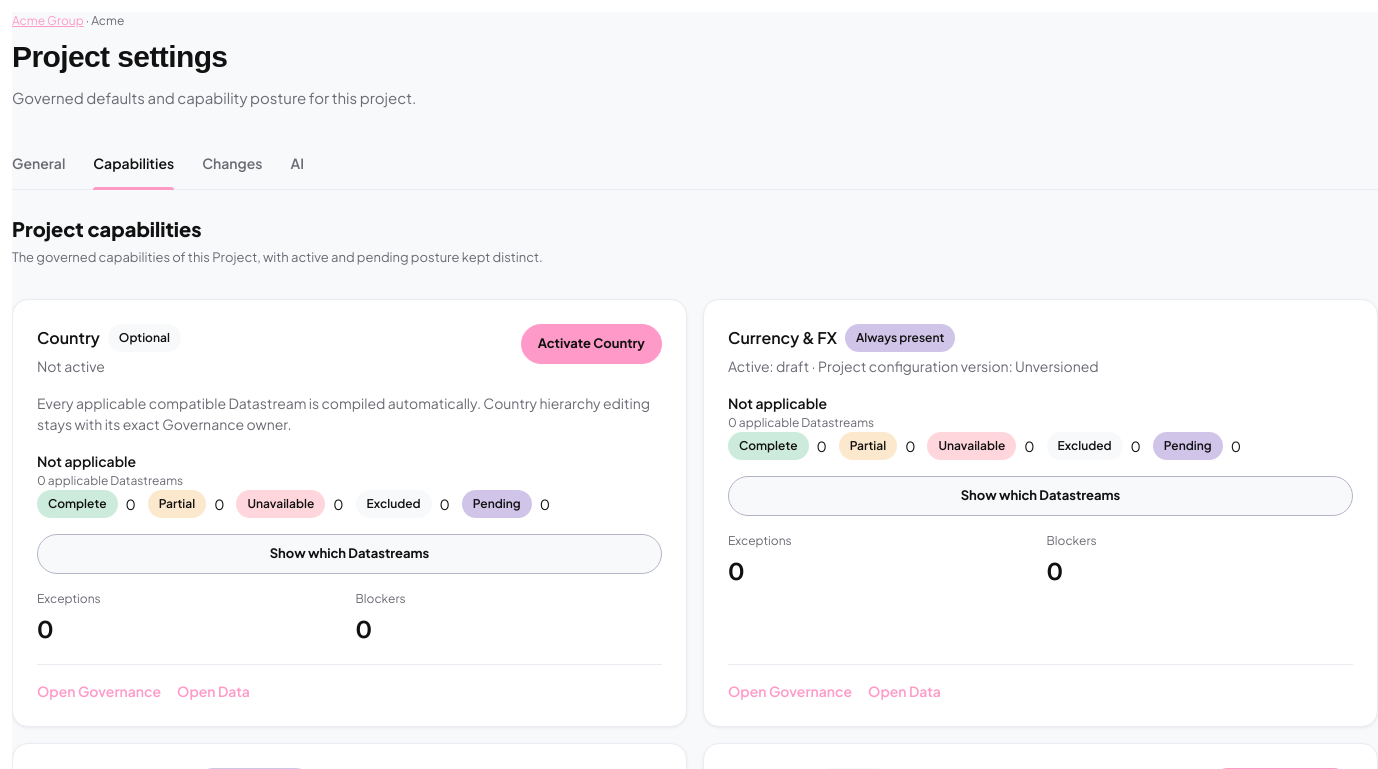
Test: names WHICH Datastreams a capability covers, on demand
The width and height of the screenshot is (1378, 769).
Click the 2nd button "Show which Datastreams" at [350, 554], box top-left (37, 534), bottom-right (662, 574)
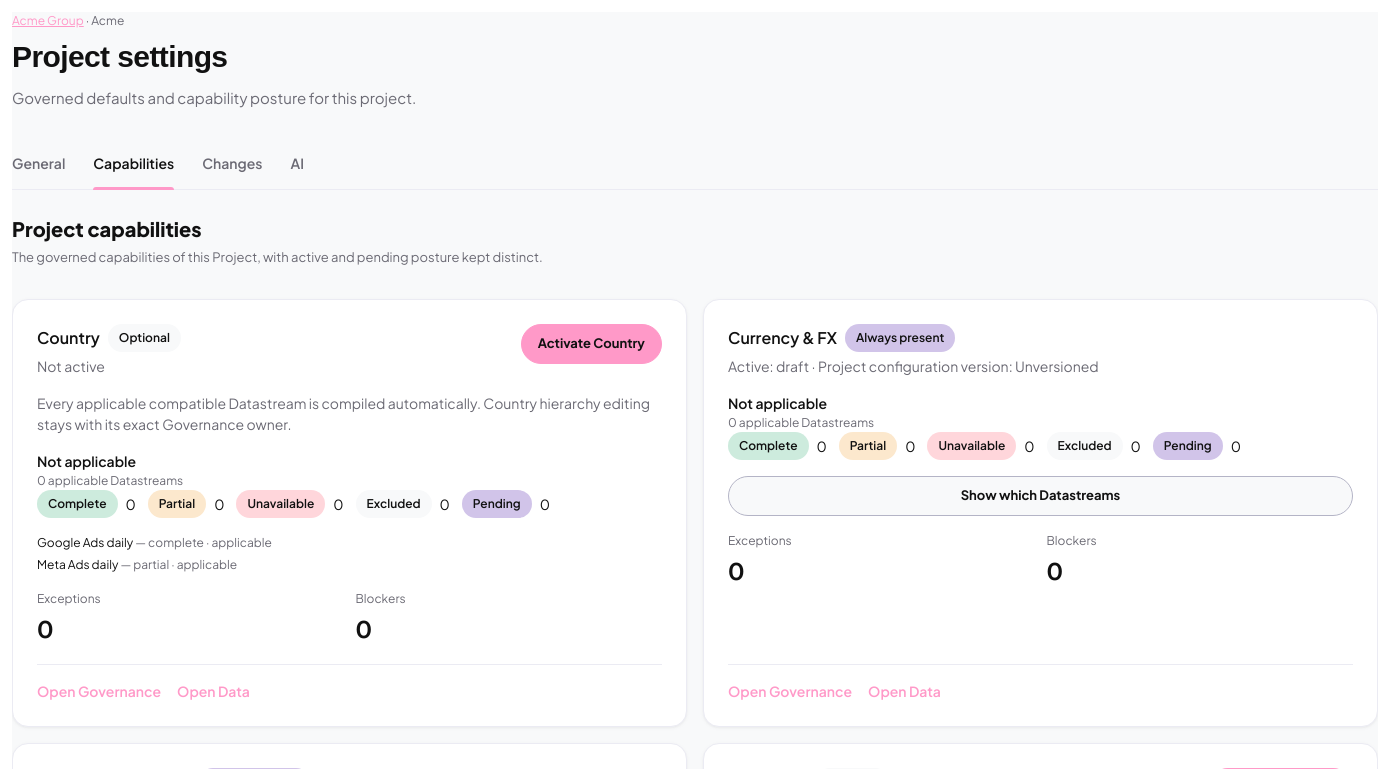
Expected: the text "Google Ads daily" is shown, top-left (37, 535), bottom-right (133, 550)
Expected: the text "Meta Ads daily" is shown, top-left (37, 557), bottom-right (118, 572)
